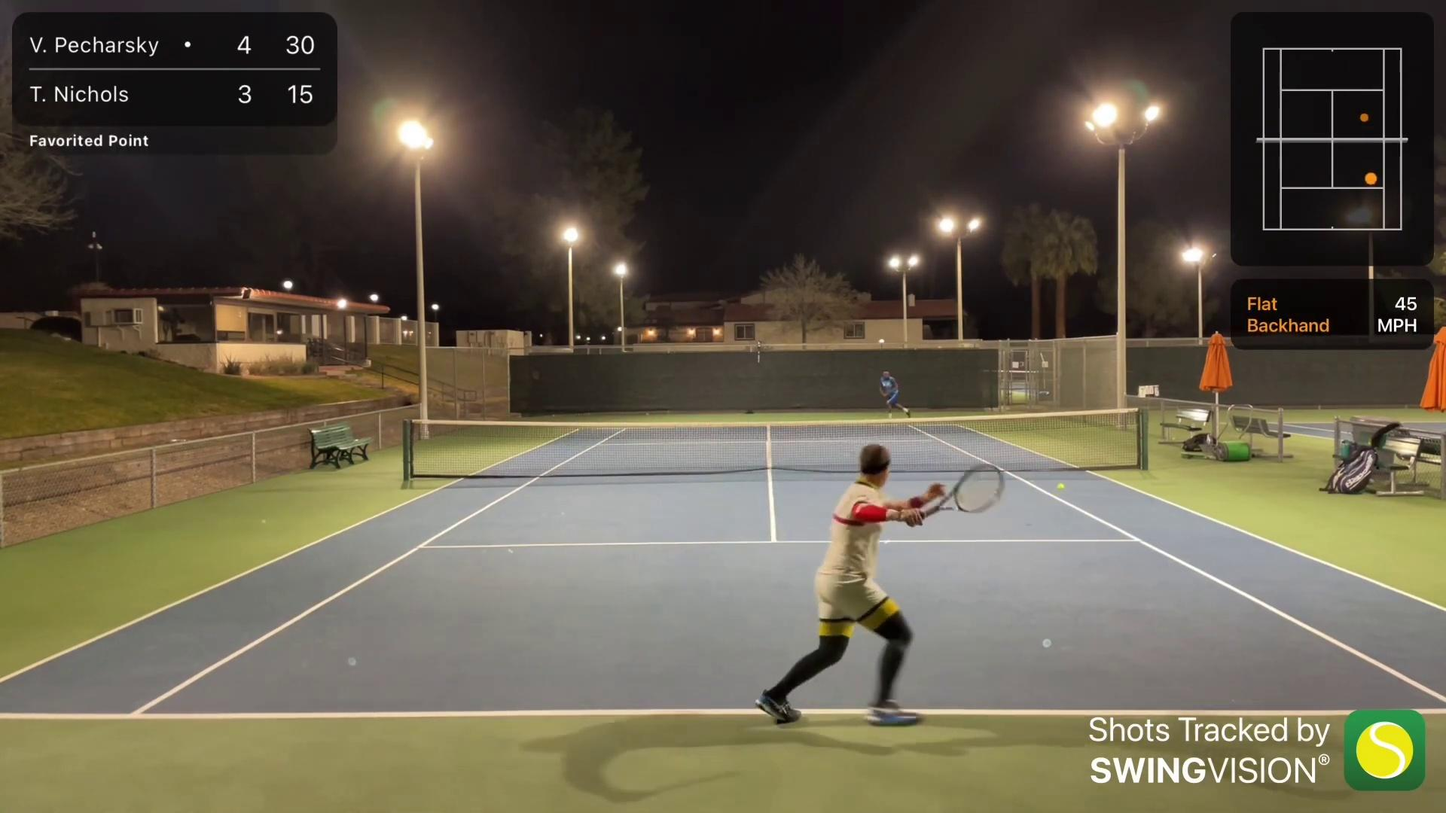ball: (1056, 479, 1068, 493)
